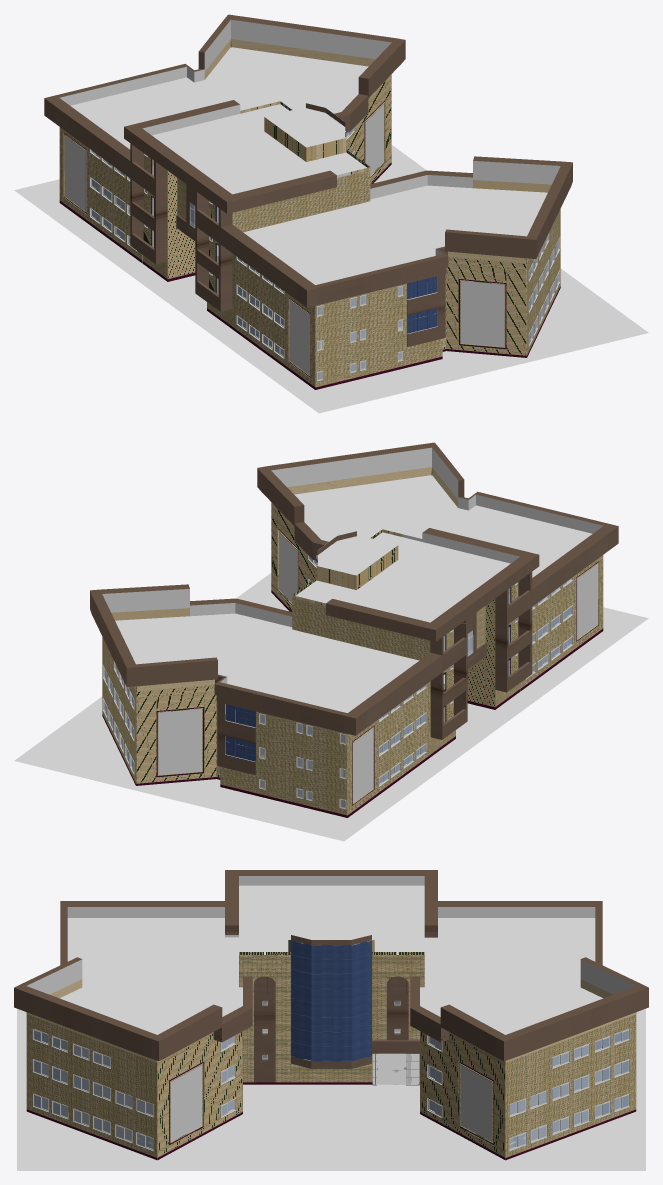
The model's file is Humanitis_Building_with_Door_FBX.fbx.
3 renders of one model, top to bottom at view 1: azimuth 30°, elevation 25°; view 2: azimuth 150°, elevation 25°; view 3: azimuth 270°, elevation 25°, orthographic. The views are drawn at different scales.
Visible parts, largest first — view 1: Cube.001; view 2: Cube.001; view 3: Cube.001.
Boxes of the visible parts, x1,y1,x2,y2 form: Cube.001: [14, 14, 648, 413]; Cube.001: [14, 442, 648, 841]; Cube.001: [14, 870, 648, 1170].
Bounding box in the file's own units: 4742 × 7663 × 2001.
